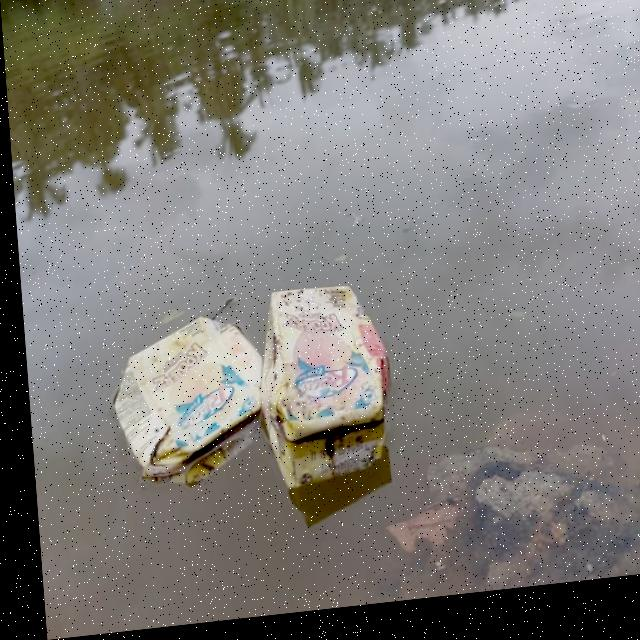paper: (89, 304, 257, 498), (252, 284, 403, 496)
